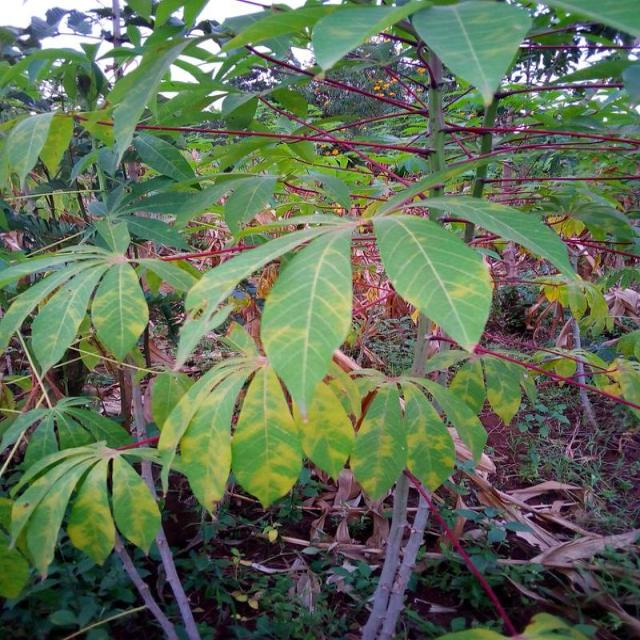cassava leaf: (260, 222, 356, 417), (374, 212, 495, 350), (412, 0, 534, 108), (231, 362, 305, 508), (350, 383, 409, 502)
